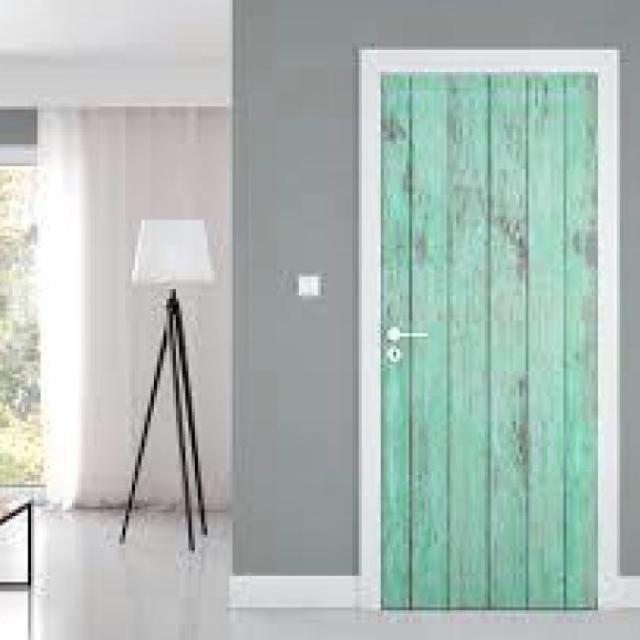door: (372, 53, 602, 612)
